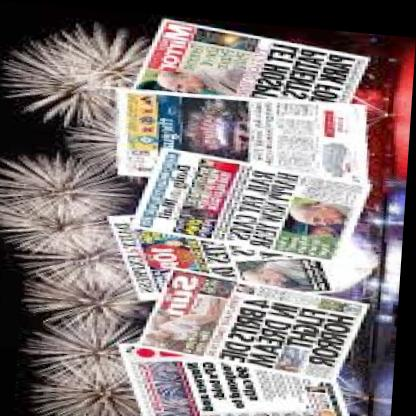Paper: (84, 17, 414, 416)
